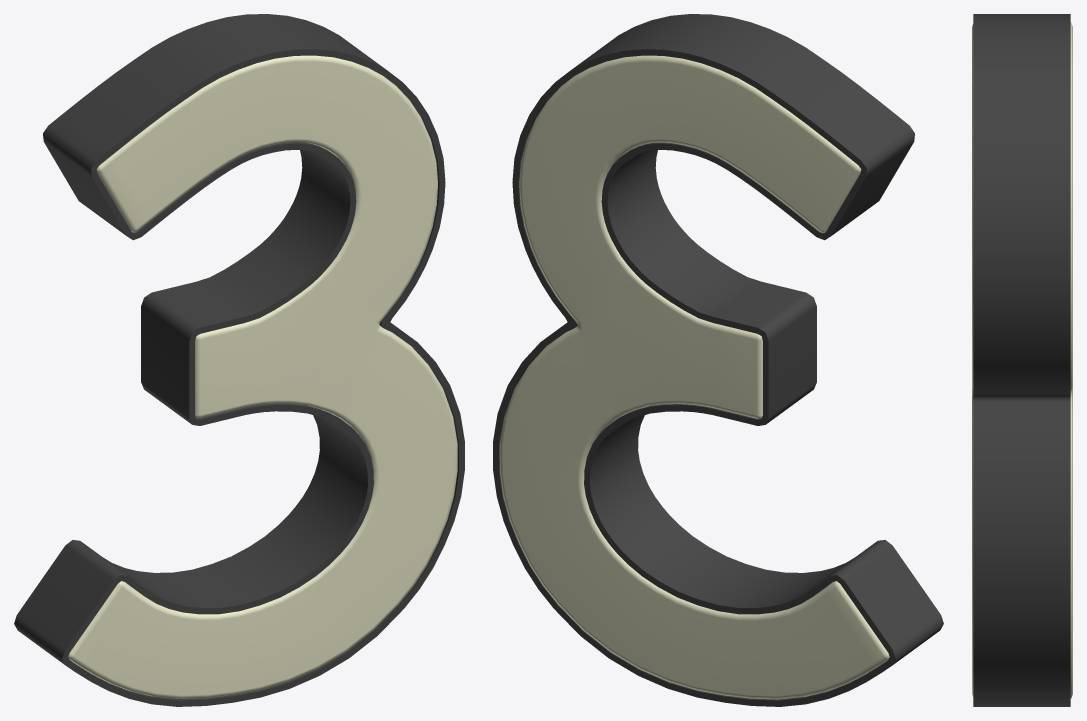
File: Simple three.glb
3 renders of one model, left to right at view 1: azimuth 30°, elevation 25°; view 2: azimuth 150°, elevation 25°; view 3: azimuth 270°, elevation 25°, orthographic.
Parts seen in each view (by area): view 1: letters_simple_three_fill_ar, letters_simple_three_border_ar; view 2: letters_simple_three_fill_ar, letters_simple_three_border_ar; view 3: letters_simple_three_border_ar, letters_simple_three_fill_ar.
Part boxes in pixels (x1,y1,x2,y2): letters_simple_three_fill_ar: (68, 55, 457, 698); letters_simple_three_border_ar: (14, 14, 464, 706); letters_simple_three_fill_ar: (499, 55, 889, 699); letters_simple_three_border_ar: (493, 14, 943, 706); letters_simple_three_border_ar: (973, 14, 1070, 706); letters_simple_three_fill_ar: (972, 22, 1072, 698).
Size of the model in its own units: 0.1778 by 0.2706 by 0.0382.
